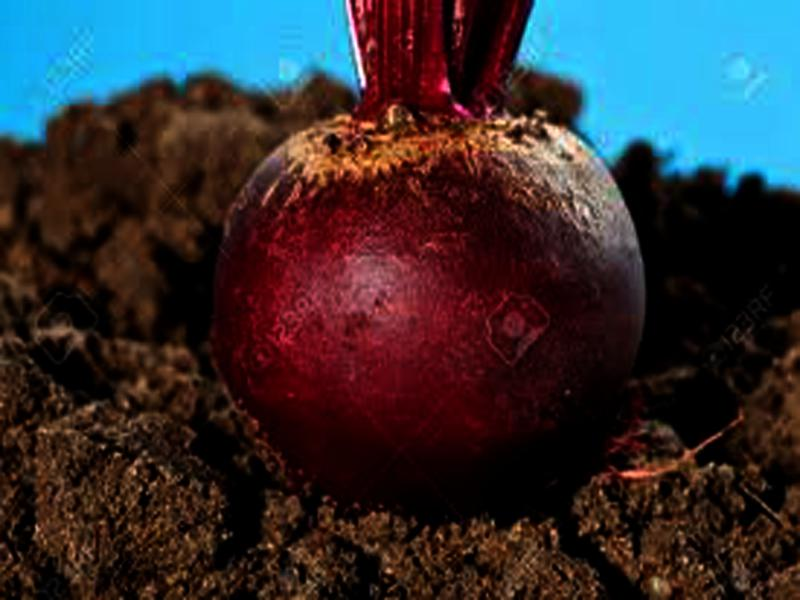Beet: (212, 3, 649, 511)
